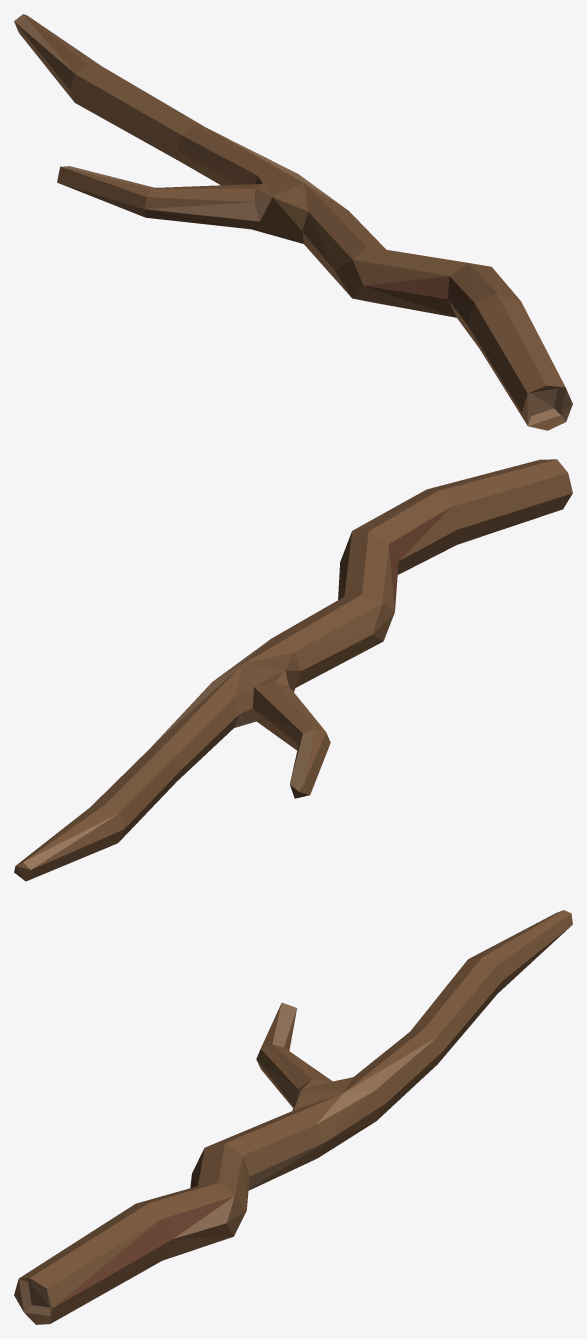
Rendered from mesh_stick_03.fbx.
The picture shows the model from 3 angles, top to bottom: view 1: azimuth 30°, elevation 25°; view 2: azimuth 150°, elevation 25°; view 3: azimuth 330°, elevation 25°; orthographic projection.
Visible parts, largest first — view 1: mesh_stick_03; view 2: mesh_stick_03; view 3: mesh_stick_03.
Part boxes in pixels (bbox=[...]): mesh_stick_03: bbox=[14, 14, 572, 430]; mesh_stick_03: bbox=[14, 459, 572, 881]; mesh_stick_03: bbox=[14, 910, 572, 1324].
Bounding box in the file's own units: 0.1571 × 0.0591 × 0.7261.
